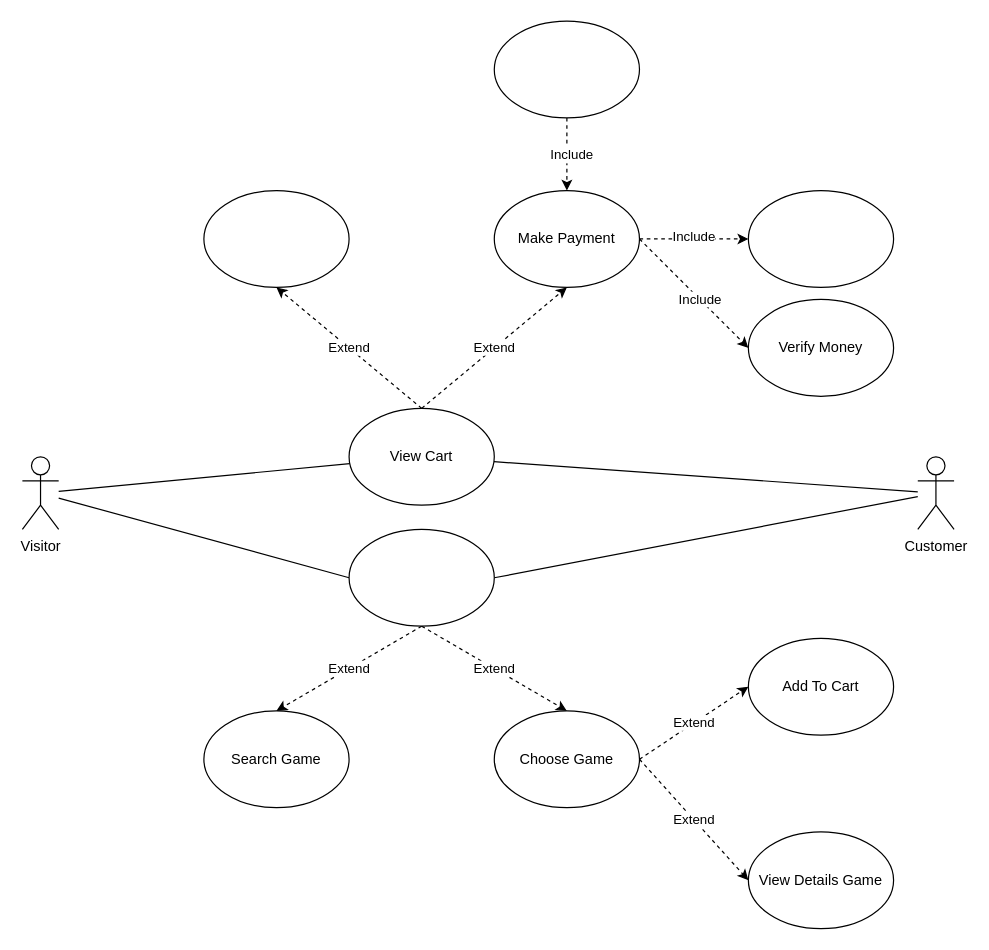
The diagram is 989 pixels wide and 950 high, and some of its shapes have lost their labels. Here are the shapes that lost their labels. From the top down, the centre of each, then its label:
At (x=566, y=69): "Create Receipt".
At (x=276, y=238): "Remove Game From Cart".
At (x=820, y=238): "Login".
At (x=421, y=577): "View Store".
